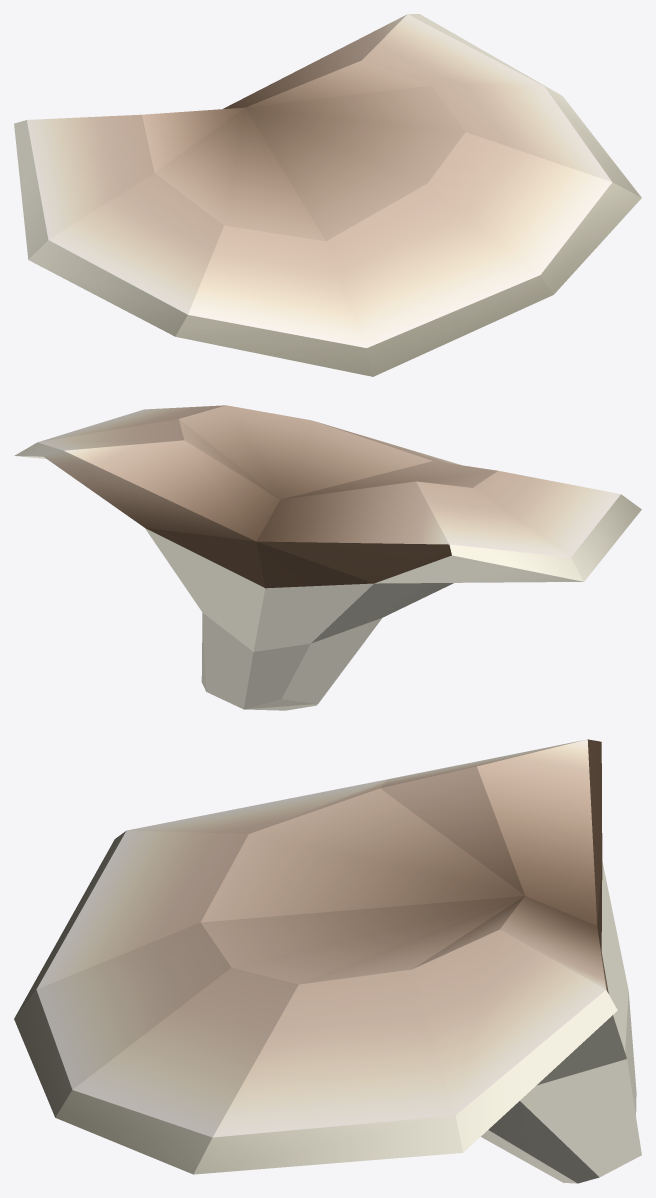
Rendered from MushroomTree-01.FBX.
3 views of the same model, one above another, from view 1: azimuth 30°, elevation 25°; view 2: azimuth 150°, elevation 25°; view 3: azimuth 270°, elevation 25° (orthographic). The views are drawn at different scales.
Parts seen in each view (by area): view 1: MushroomTree-01; view 2: MushroomTree-01; view 3: MushroomTree-01.
Boxes of the visible parts, x1=… form: MushroomTree-01: x1=14, y1=14, x2=641, y2=376; MushroomTree-01: x1=14, y1=405, x2=641, y2=710; MushroomTree-01: x1=14, y1=739, x2=641, y2=1183.
Bounding box in the file's own units: 81.4 × 33.26 × 57.85.
Materials: 1 (1 with a texture image).
